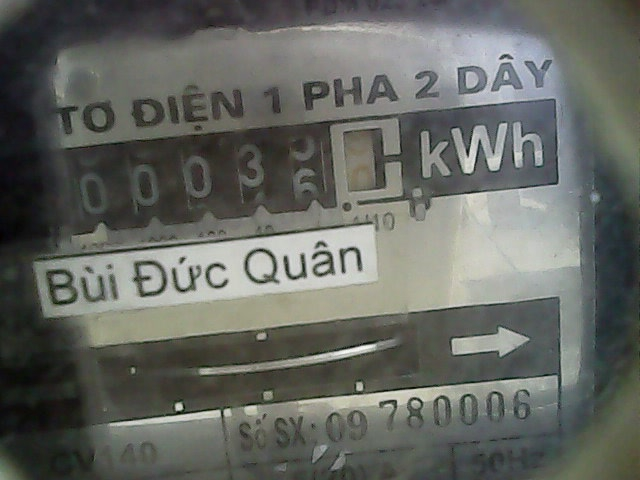phy_plate: (65, 116, 412, 218)
